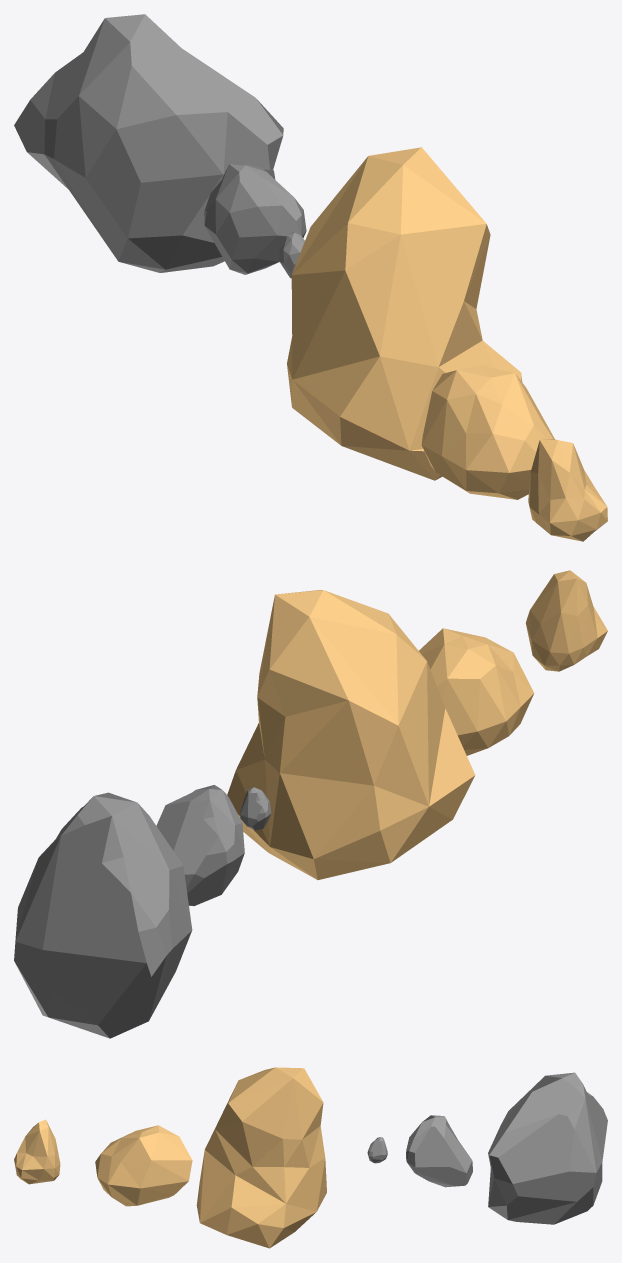
The model's file is Rocks.fbx.
The picture shows the model from 3 angles, top to bottom: view 1: azimuth 30°, elevation 25°; view 2: azimuth 150°, elevation 25°; view 3: azimuth 270°, elevation 25°; orthographic projection. The views are drawn at different scales.
Parts seen in each view (by area): view 1: Boulder_Large, Rock_Large, Boulder_Medium, Rock_Medium, Boulder_Small, Rock_Small; view 2: Boulder_Large, Rock_Large, Boulder_Medium, Rock_Medium, Boulder_Small, Rock_Small; view 3: Boulder_Large, Rock_Large, Boulder_Medium, Rock_Medium, Boulder_Small, Rock_Small.
Boxes of the visible parts, left/top/right/bottom form: Boulder_Large: left=287, top=147, right=522, bottom=480; Rock_Large: left=14, top=14, right=283, bottom=272; Boulder_Medium: left=421, top=365, right=554, bottom=499; Rock_Medium: left=204, top=164, right=306, bottom=274; Boulder_Small: left=528, top=439, right=607, bottom=541; Rock_Small: left=278, top=232, right=304, bottom=278; Boulder_Large: left=227, top=590, right=475, bottom=879; Rock_Large: left=14, top=792, right=192, bottom=1038; Boulder_Medium: left=419, top=628, right=534, bottom=755; Rock_Medium: left=156, top=785, right=244, bottom=906; Boulder_Small: left=526, top=570, right=607, bottom=671; Rock_Small: left=240, top=787, right=271, bottom=830; Boulder_Large: left=196, top=1067, right=326, bottom=1248; Rock_Large: left=488, top=1072, right=607, bottom=1224; Boulder_Medium: left=95, top=1125, right=192, bottom=1206; Rock_Medium: left=406, top=1115, right=472, bottom=1187; Boulder_Small: left=14, top=1119, right=60, bottom=1184; Rock_Small: left=367, top=1137, right=387, bottom=1163.
Bounding box in the file's own units: 515 × 658 × 2192.
